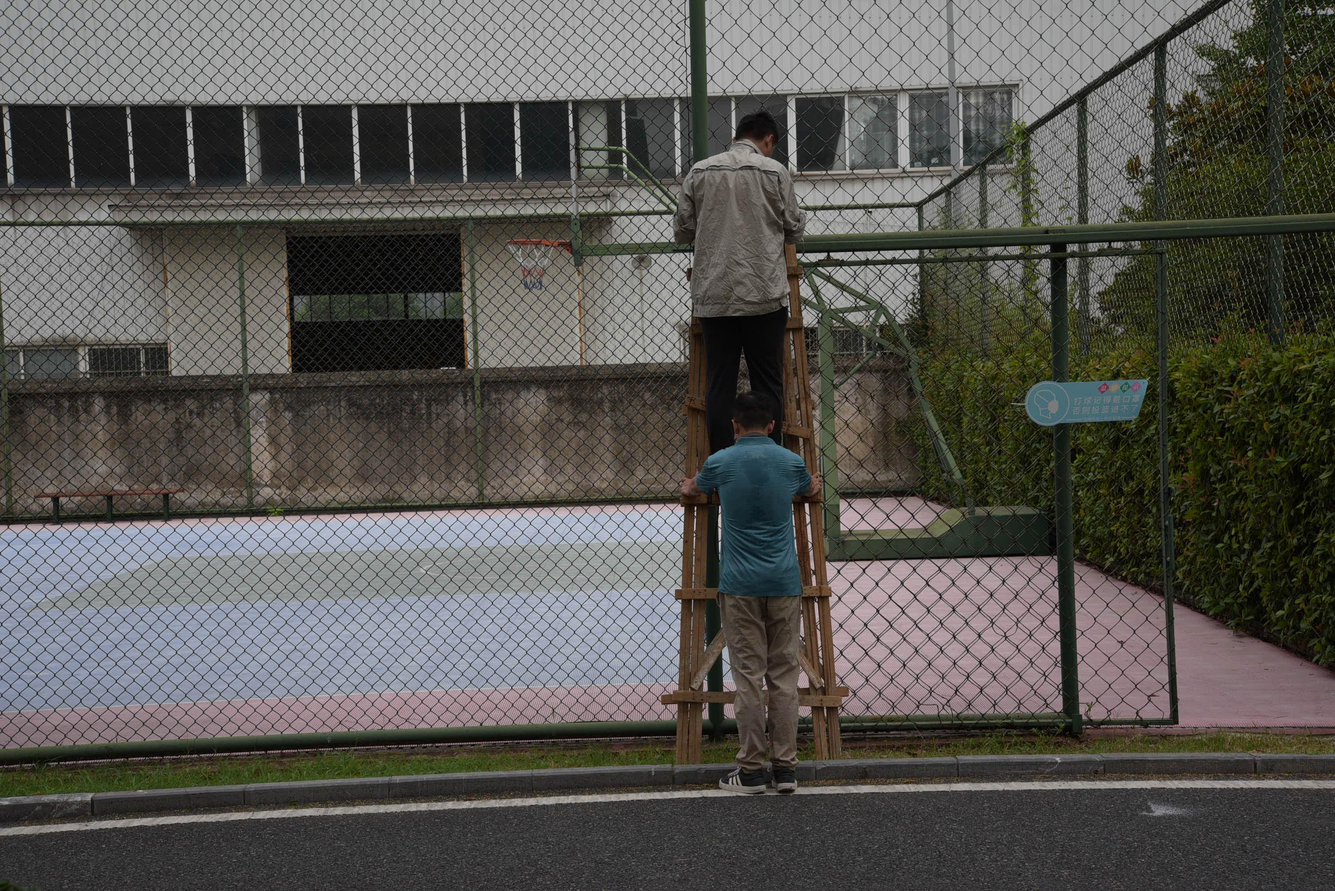安全帽、安全绳均未佩戴的工作人员: (668, 107, 808, 455)
安全帽、工作服均未穿戴的工作人员: (677, 390, 826, 795)
